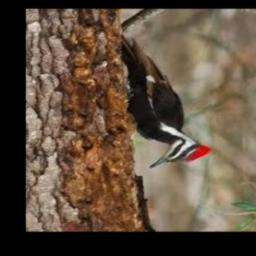Woodpecker: (120, 36, 211, 168)
